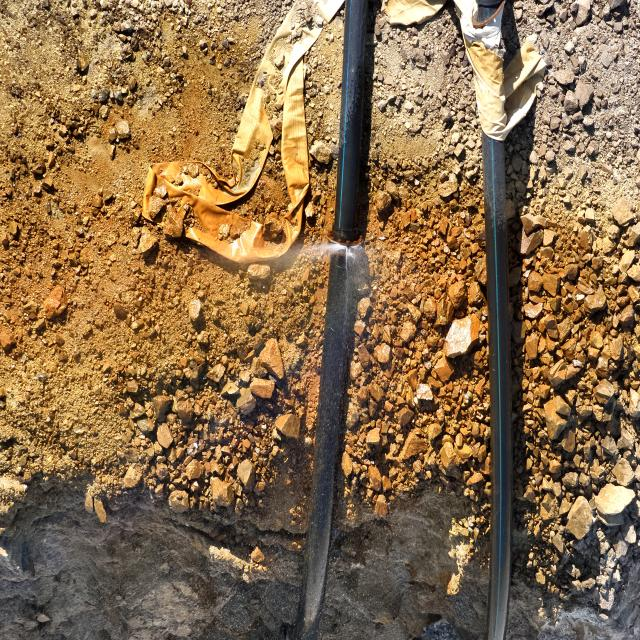leak: (183, 232, 376, 304)
